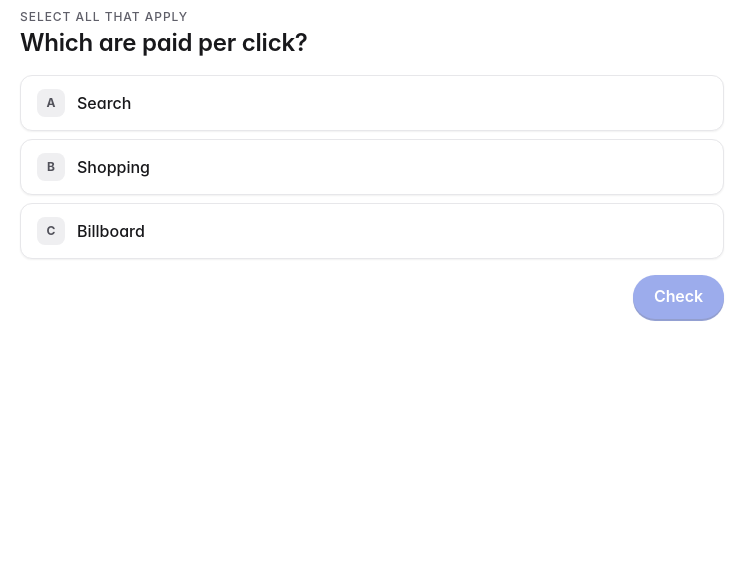
Test: scoring.revealAnswers › always: a checked question shows the options that were missed
Click the checkbox labelled "A Search": point(104, 103) [20, 75, 724, 131]
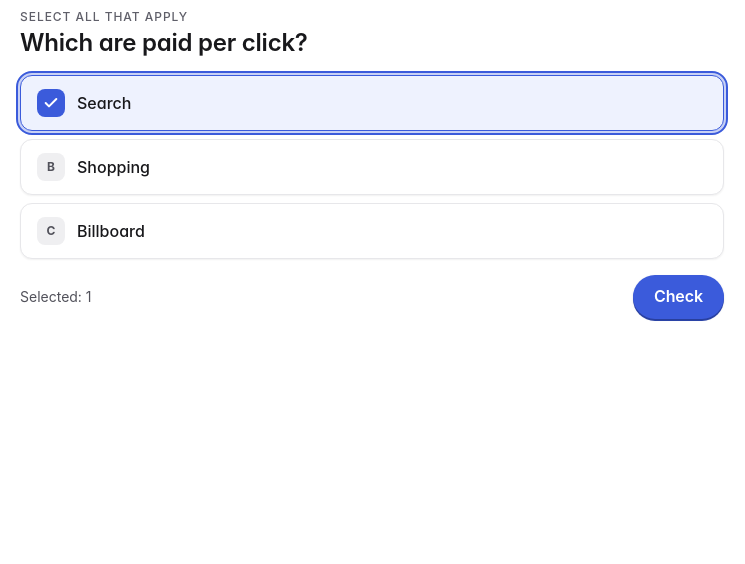
Click the checkbox labelled "C Billboard": point(111, 231) [20, 203, 724, 259]
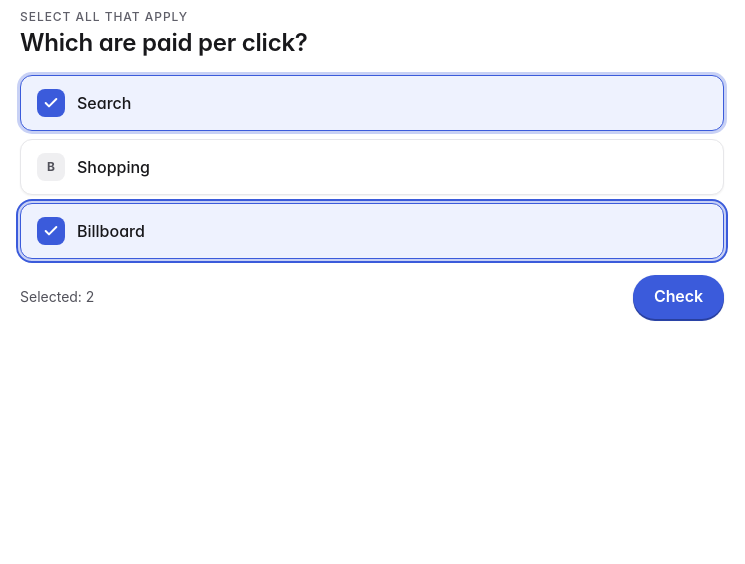
Click the button "Check": point(678, 297) [633, 275, 724, 319]
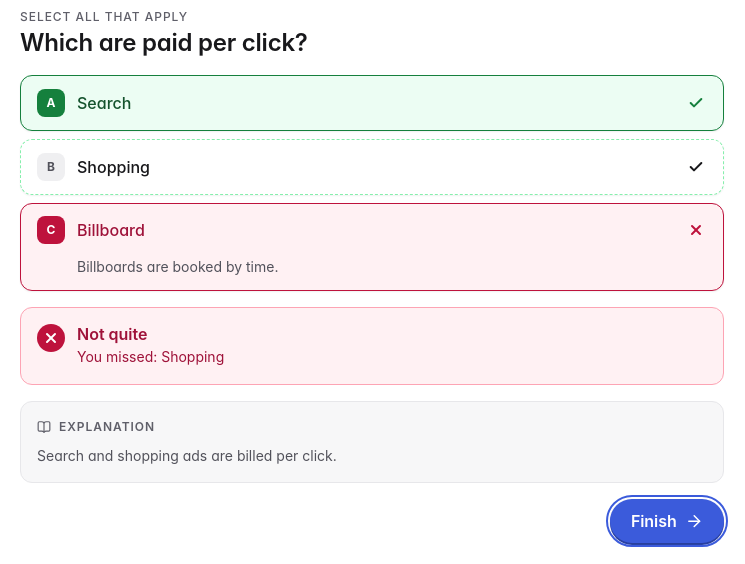
Expected: the text "Search and shopping ads are billed per click." is shown, [37, 447, 337, 464]
